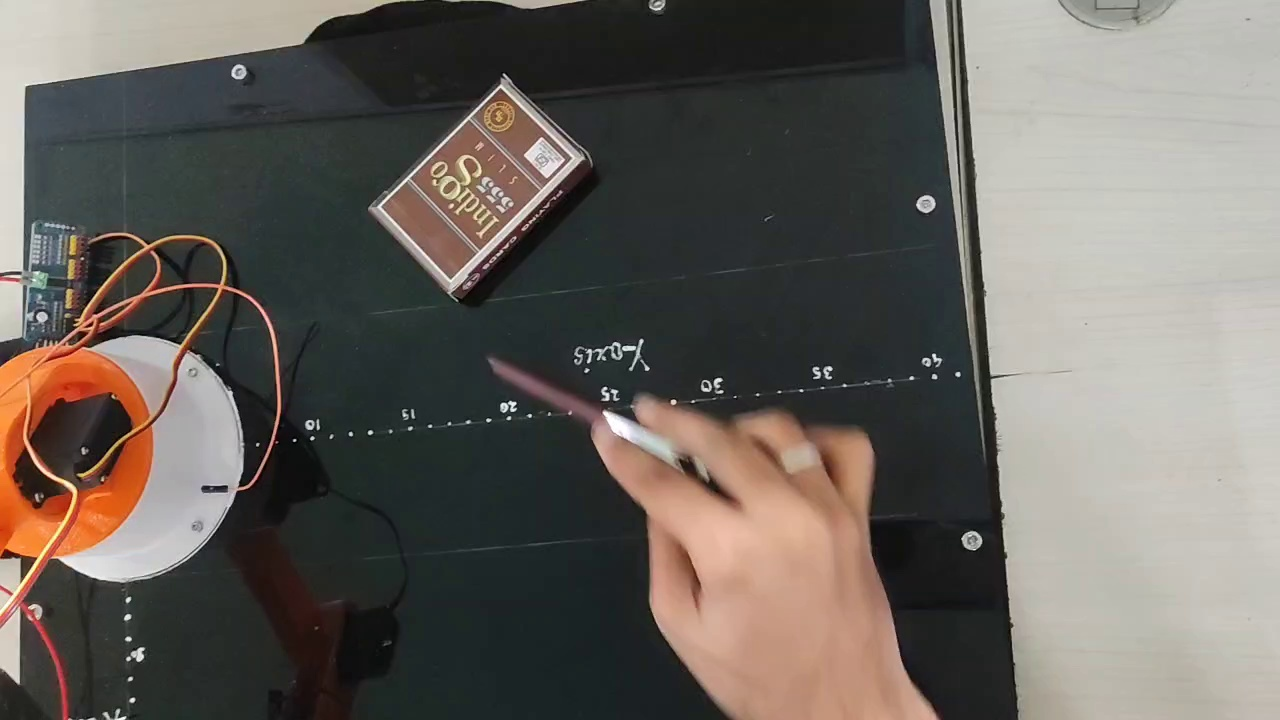BEX: (377, 83, 570, 283)
